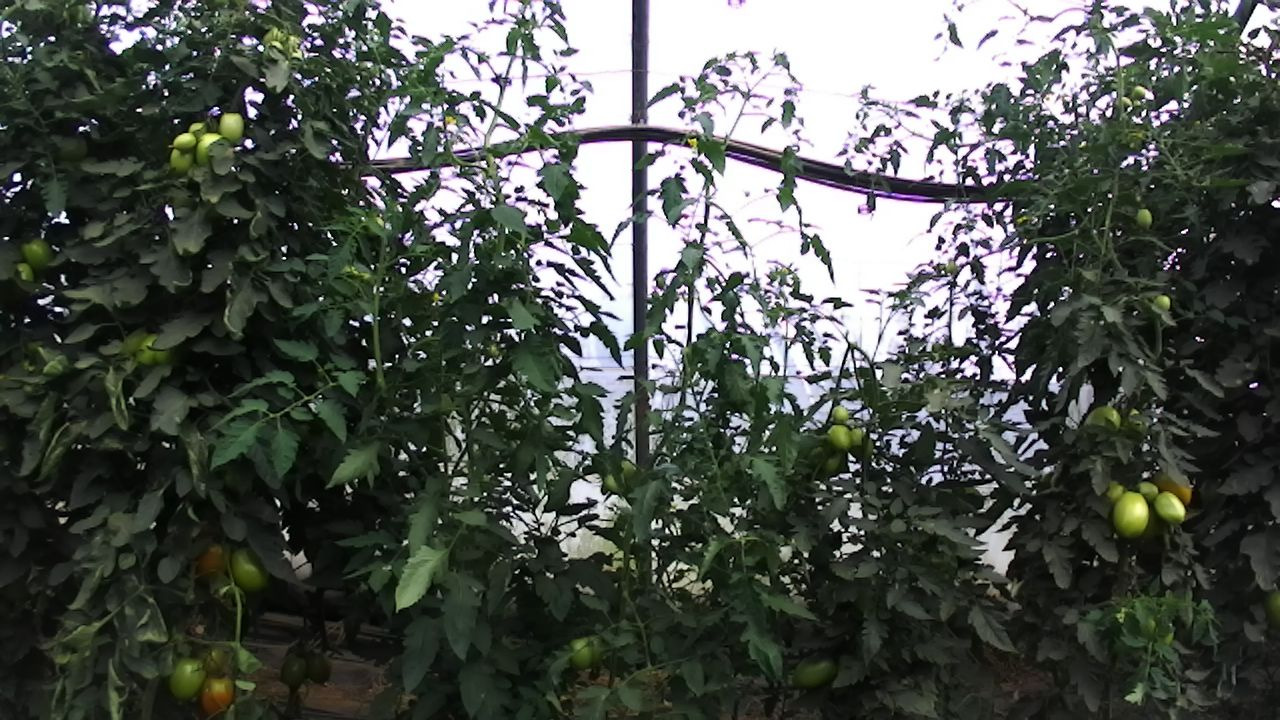tomato: (228, 542, 272, 596), (165, 654, 210, 705), (1110, 491, 1150, 541), (792, 649, 838, 692), (196, 673, 237, 719), (1151, 489, 1187, 528), (19, 233, 53, 272), (1080, 401, 1124, 428), (276, 654, 308, 689), (567, 633, 595, 670), (305, 650, 332, 688), (216, 109, 245, 144), (824, 421, 853, 454), (167, 145, 195, 178), (166, 130, 198, 154), (1134, 207, 1153, 233), (830, 403, 849, 426), (1152, 293, 1172, 314), (846, 426, 864, 449)
